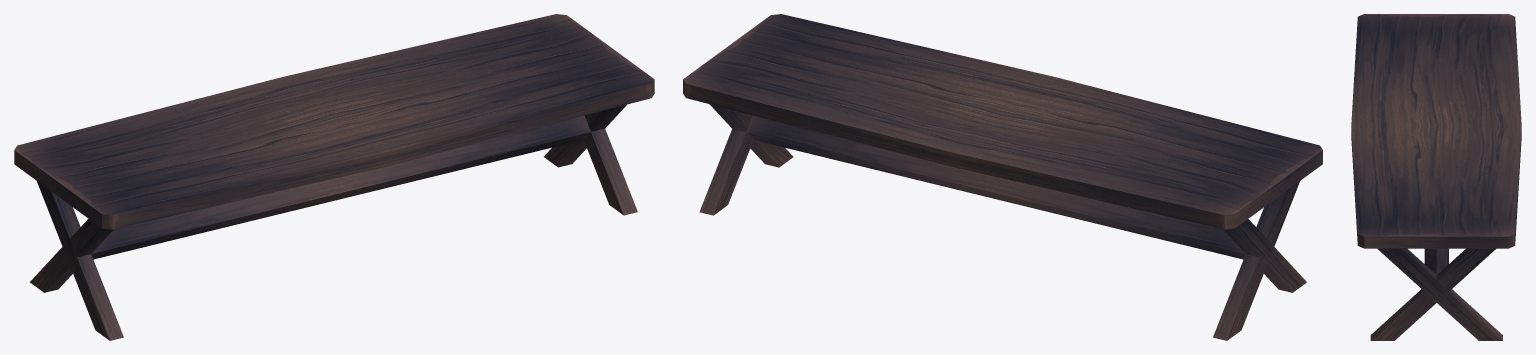
The model's file is Table_B_1x3.fbx.
The picture shows the model from 3 angles, left to right: view 1: azimuth 30°, elevation 25°; view 2: azimuth 150°, elevation 25°; view 3: azimuth 270°, elevation 25°; orthographic projection. The views are drawn at different scales.
Visible parts, largest first — view 1: Table_B_1x3; view 2: Table_B_1x3; view 3: Table_B_1x3.
Boxes of the visible parts, left/top/right/bottom form: Table_B_1x3: left=14, top=14, right=654, bottom=340; Table_B_1x3: left=683, top=14, right=1322, bottom=340; Table_B_1x3: left=1351, top=14, right=1521, bottom=340.
Size of the model in its own units: 0.9399 by 0.2154 by 0.304.
